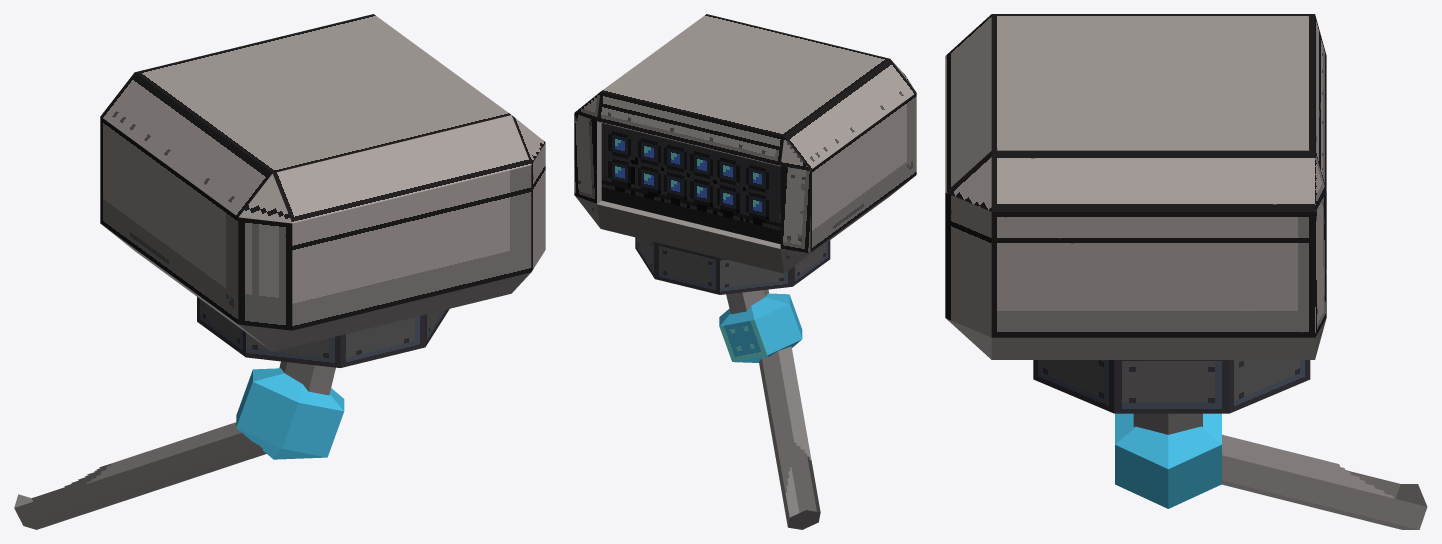
File: PlasmaRocketLauncherRightSide.gltf
The picture shows the model from 3 angles, left to right: view 1: azimuth 30°, elevation 25°; view 2: azimuth 150°, elevation 25°; view 3: azimuth 270°, elevation 25°; orthographic projection. The views are drawn at different scales.
Visible parts, largest first — view 1: RocketLauncher, UpperAttachmentArm (×2), BallJoint, Base; view 2: RocketLauncher, UpperAttachmentArm (×2), Base, BallJoint; view 3: RocketLauncher, Base, UpperAttachmentArm (×2), BallJoint.
Part boxes in pixels (box(x1,y1,x2,y2)): RocketLauncher: box(100, 14, 545, 351); UpperAttachmentArm (×2): box(14, 361, 335, 529); BallJoint: box(236, 368, 344, 459); Base: box(197, 297, 449, 367); RocketLauncher: box(574, 14, 916, 273); UpperAttachmentArm (×2): box(726, 289, 820, 529); Base: box(635, 237, 830, 294); BallJoint: box(719, 293, 802, 362); RocketLauncher: box(945, 14, 1326, 359); Base: box(1033, 360, 1310, 413); UpperAttachmentArm (×2): box(1133, 413, 1427, 529); BallJoint: box(1115, 413, 1221, 508).
Bounding box in the file's own units: 0.6535 × 0.8221 × 0.6521.
Materials: 1 (1 with a texture image).
